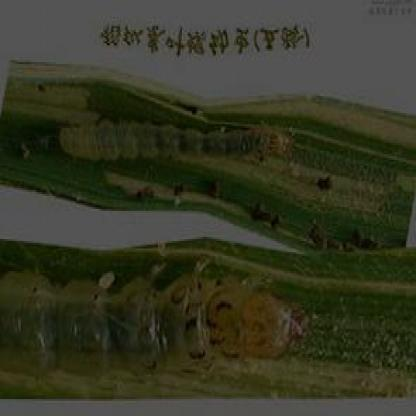leaf-folder: (0, 262, 298, 400), (64, 110, 300, 176)
